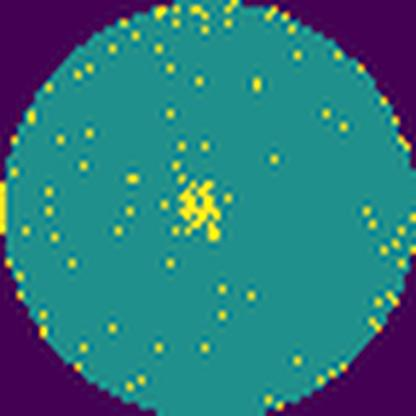Center: (177, 177, 223, 243)
